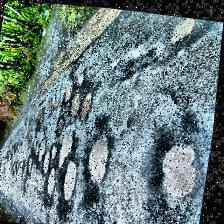pothole: (158, 138, 206, 196), (85, 130, 116, 184), (58, 126, 80, 168), (63, 157, 83, 201), (170, 13, 196, 43), (47, 164, 61, 196), (81, 91, 95, 121), (70, 89, 84, 117), (44, 149, 56, 175), (64, 79, 76, 103), (40, 138, 50, 162), (56, 116, 68, 134), (28, 155, 38, 173), (52, 144, 62, 160)
